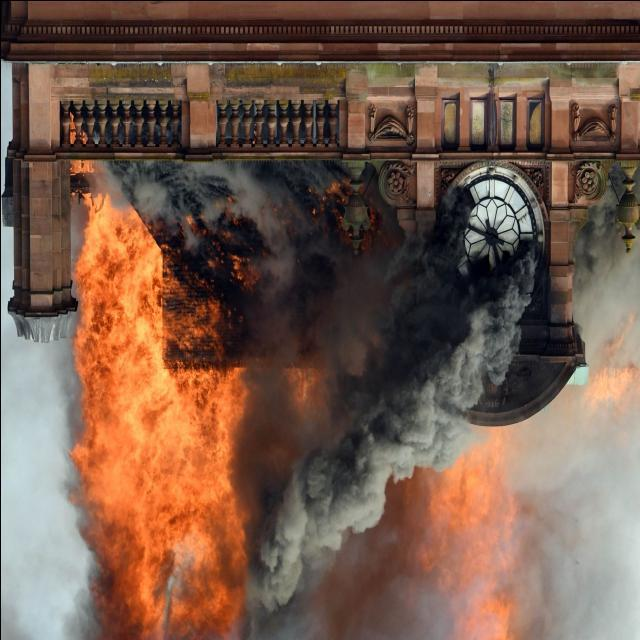Fire: (41, 148, 639, 640)
